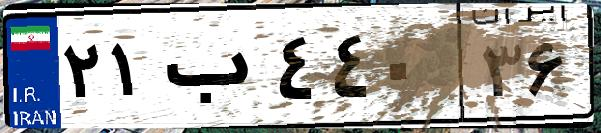0: (385, 28, 445, 110)
1: (110, 28, 158, 98)
2: (57, 26, 110, 100)
3: (475, 38, 525, 113)
4: (270, 28, 330, 110), (330, 28, 385, 110)
6: (525, 38, 570, 115)
ب: (158, 20, 270, 120)
